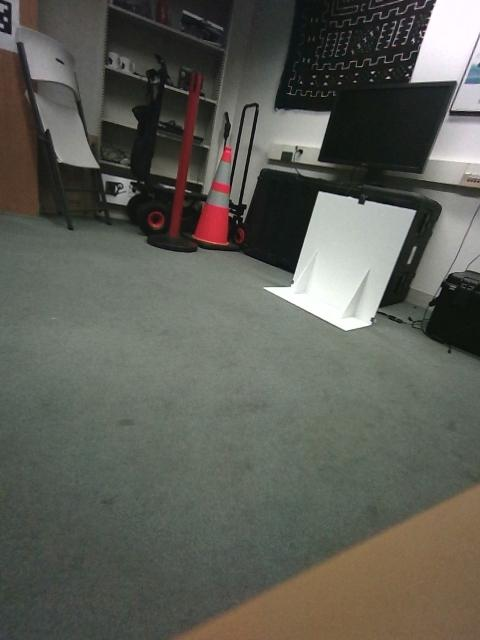block: (103, 269, 145, 301)
